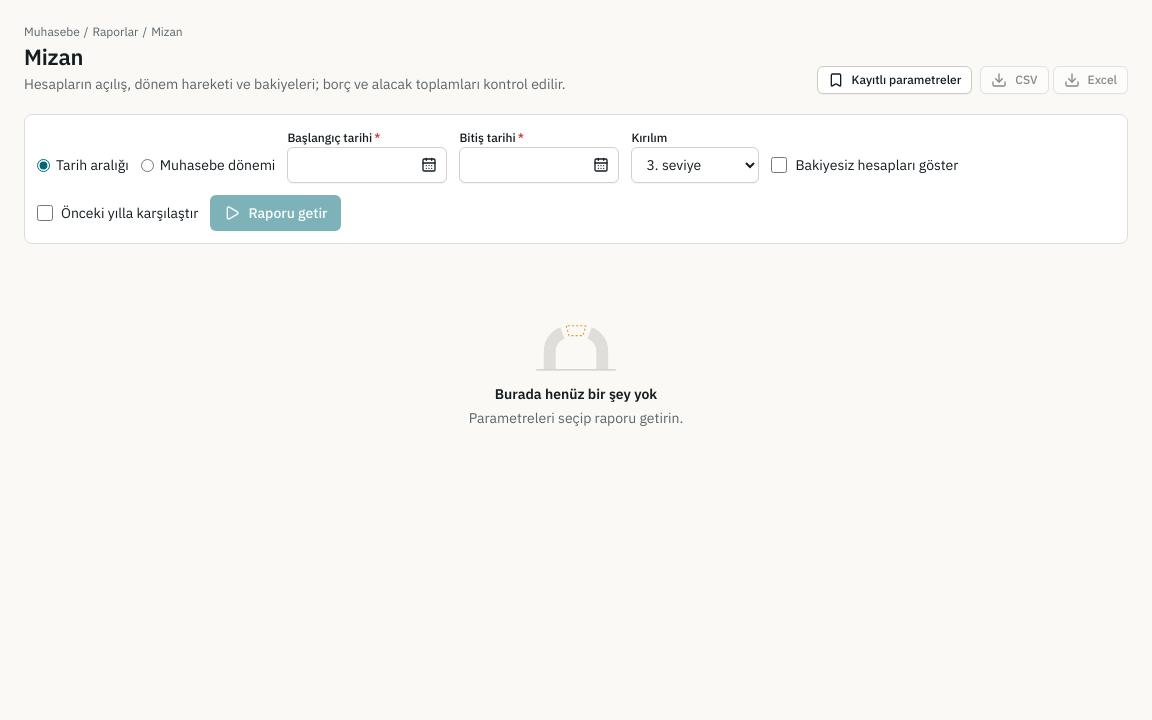
Scenario: trial balance › runs by period, shows the tree with totals check and collapses levels
This screenshot has width=1152, height=720.
expect the text "Parametreleri seçip raporu getirin." is shown: met, box left=469, top=408, right=683, bottom=428
Click the radio button labelled "Muhasebe dönemi".
click(147, 165)  # box left=141, top=158, right=154, bottom=172
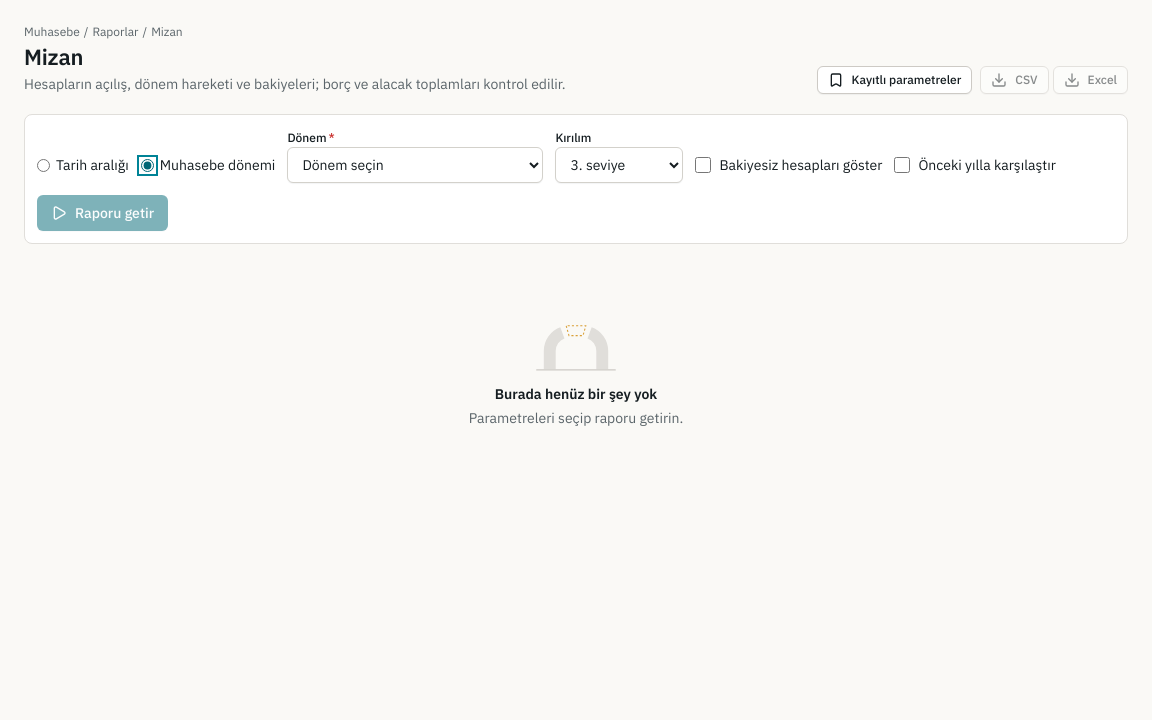
Select "2026 / 01 (01.01.2026 – 31.01.2026)" in the dropdown labelled "Dönem*" at [415, 165], box left=287, top=147, right=543, bottom=183
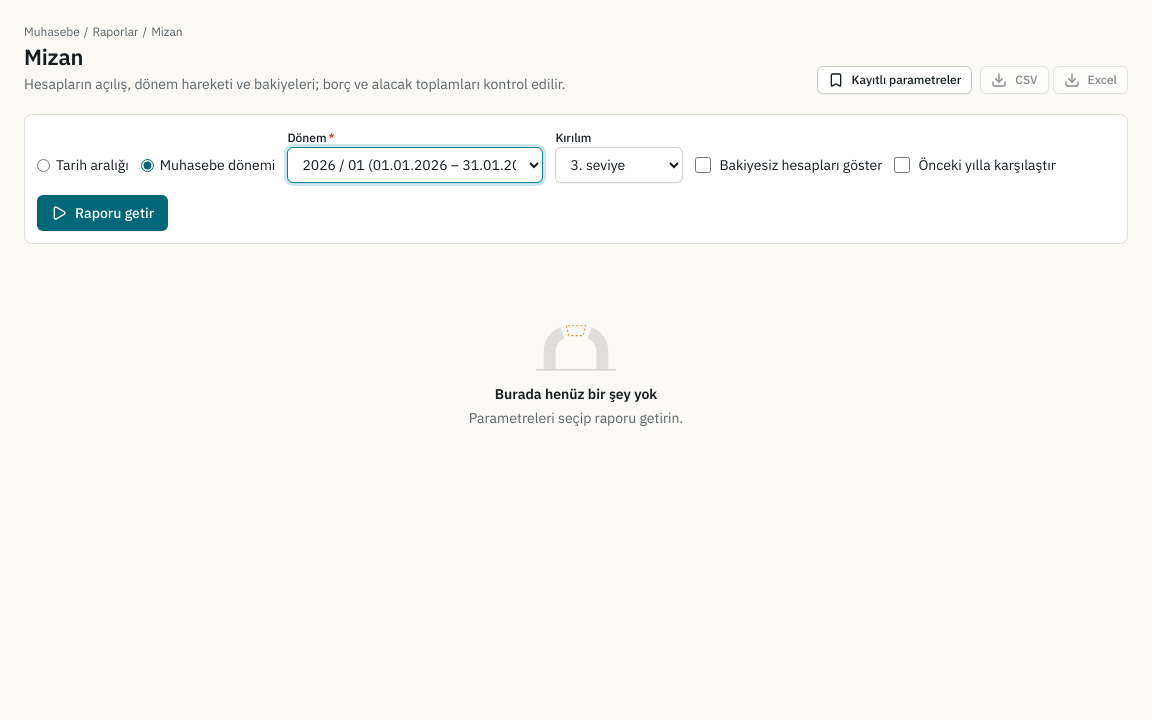
Click the checkbox labelled "Önceki yılla karşılaştır".
click(902, 165)  # box left=894, top=157, right=910, bottom=173
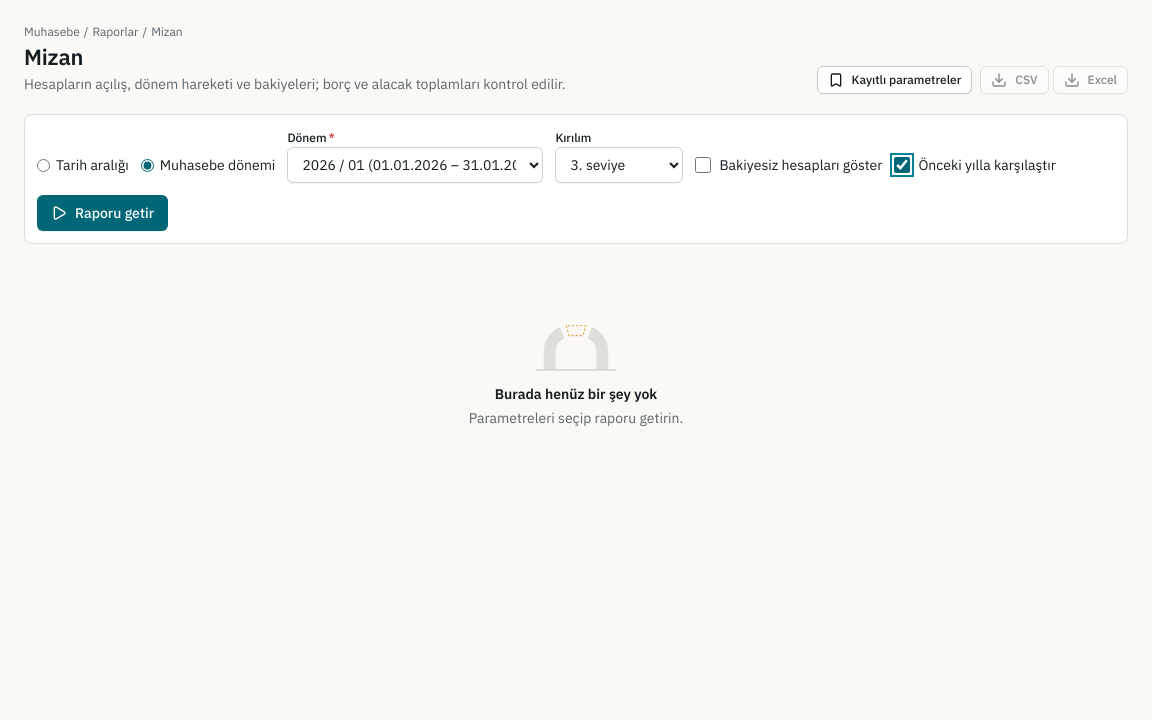
Click the button "Raporu getir".
click(103, 213)  # box left=37, top=195, right=168, bottom=231
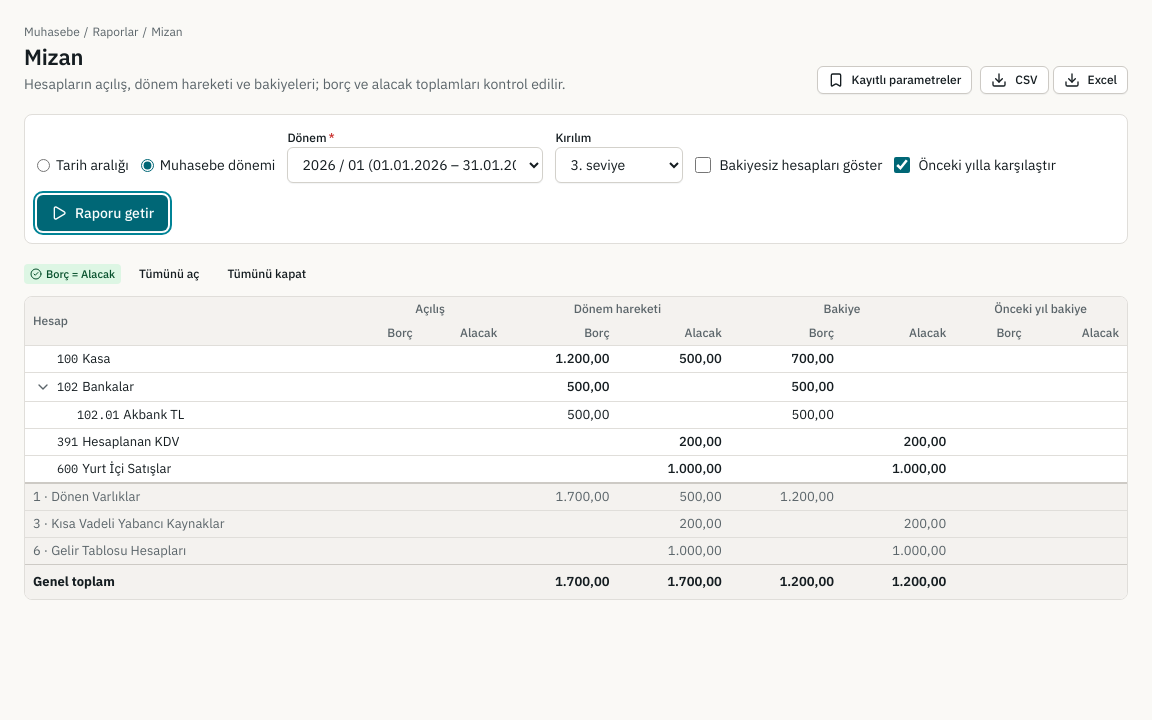
expect the message reads "Borç = Alacak": met, box left=46, top=267, right=115, bottom=281
expect the text "Akbank TL" is shown: met, box left=123, top=406, right=184, bottom=424
expect the column heading "Önceki yıl bakiye" is shown: met, box left=954, top=297, right=1127, bottom=321
Click the button named "102 alt hesaplarını kapat".
click(43, 387)  # box left=33, top=377, right=53, bottom=397
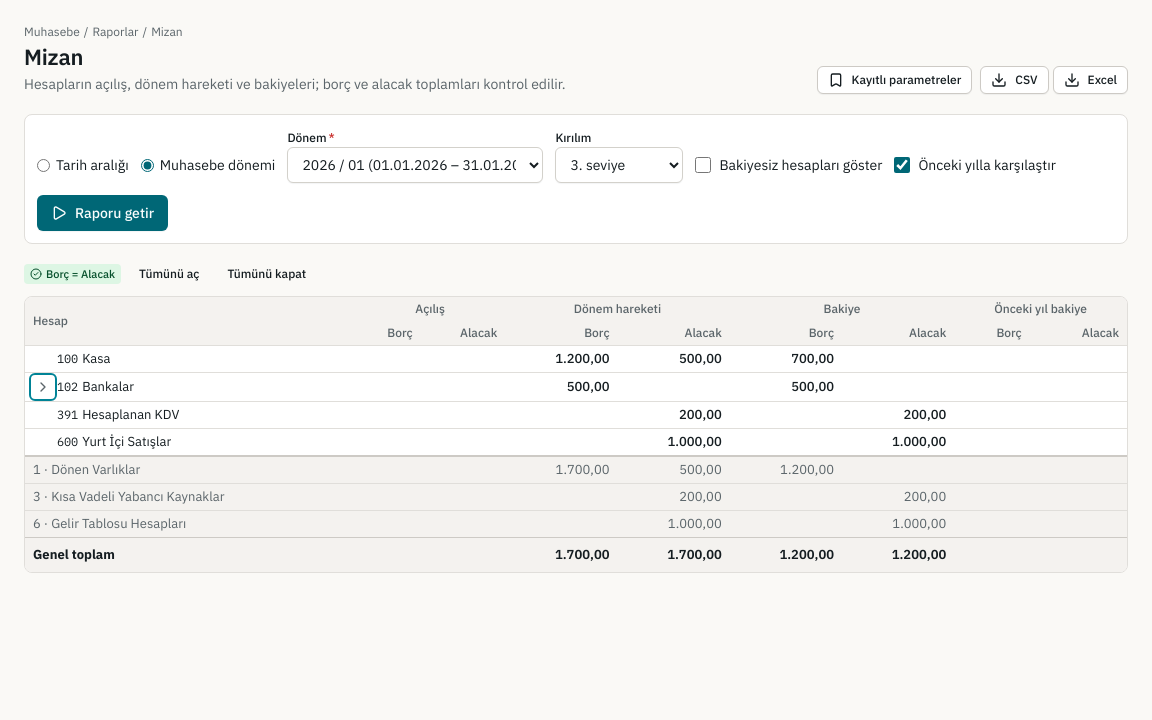
expect the row with test id "group-1" shows "1 · Dönen Varlıklar": met, box left=33, top=461, right=140, bottom=478
expect the text "Akbank TL" is gone: met
expect the button named "102 alt hesaplarını aç" is shown: met, box left=33, top=377, right=53, bottom=397
